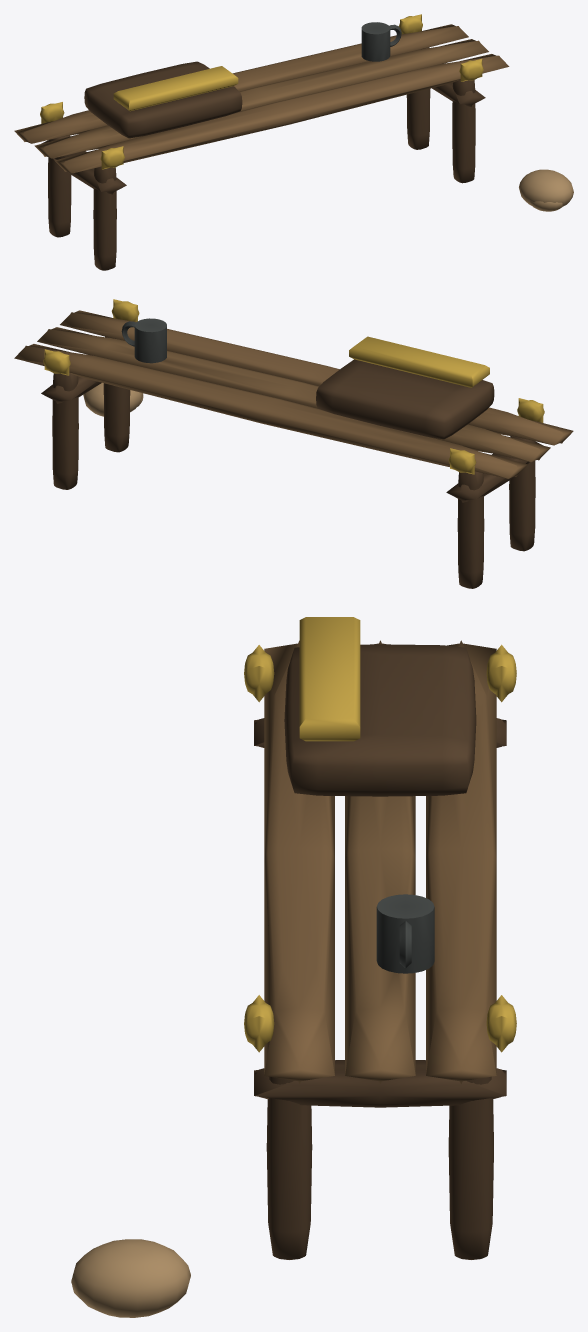
Rendered from crew_bench_a.glb.
The picture shows the model from 3 angles, top to bottom: view 1: azimuth 30°, elevation 25°; view 2: azimuth 150°, elevation 25°; view 3: azimuth 270°, elevation 25°; orthographic projection. The views are drawn at different scales.
Parts seen in each view (by area): view 1: Surface; view 2: Surface; view 3: Surface.
Part boxes in pixels (bbox=[...]): Surface: bbox=[14, 14, 573, 270]; Surface: bbox=[14, 299, 573, 588]; Surface: bbox=[71, 617, 516, 1317].
Size of the model in its own units: 2.12 by 0.7219 by 0.8821.
